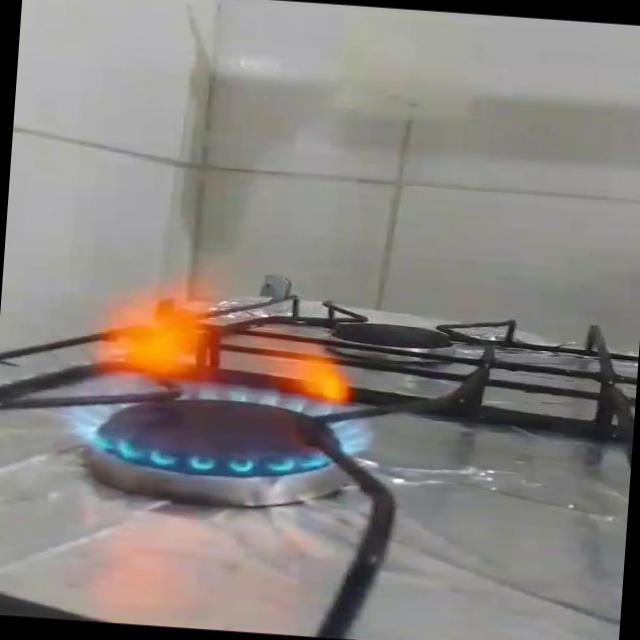Fire: (47, 246, 389, 485)
